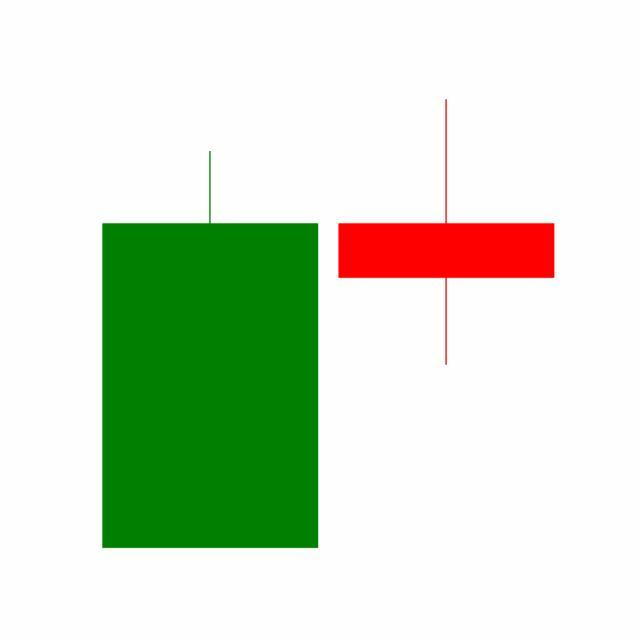Spinning Top: (328, 97, 566, 369)
